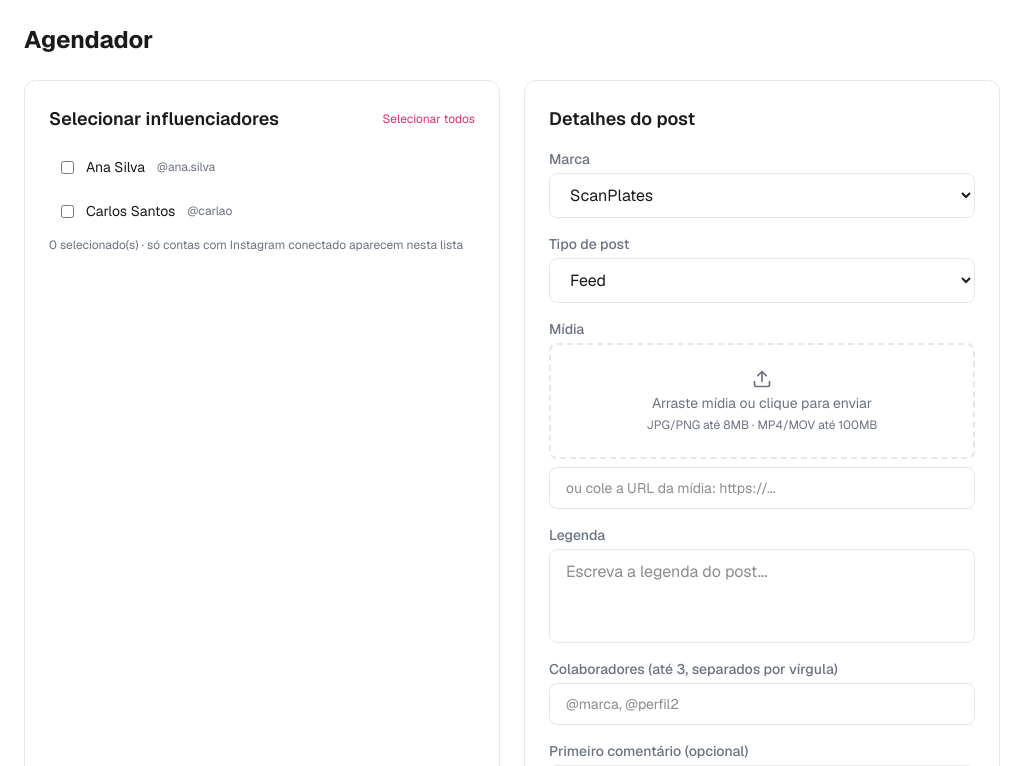
Test case: AdminScheduler › shows the Reel cover field only for reels
The image size is (1024, 766).
Check: the text "capa do reel" is not shown
Select "Reel" in the dropdown below "Tipo de post" at {"x": 762, "y": 280}, box [549,258,975,303]
(page scrolled)
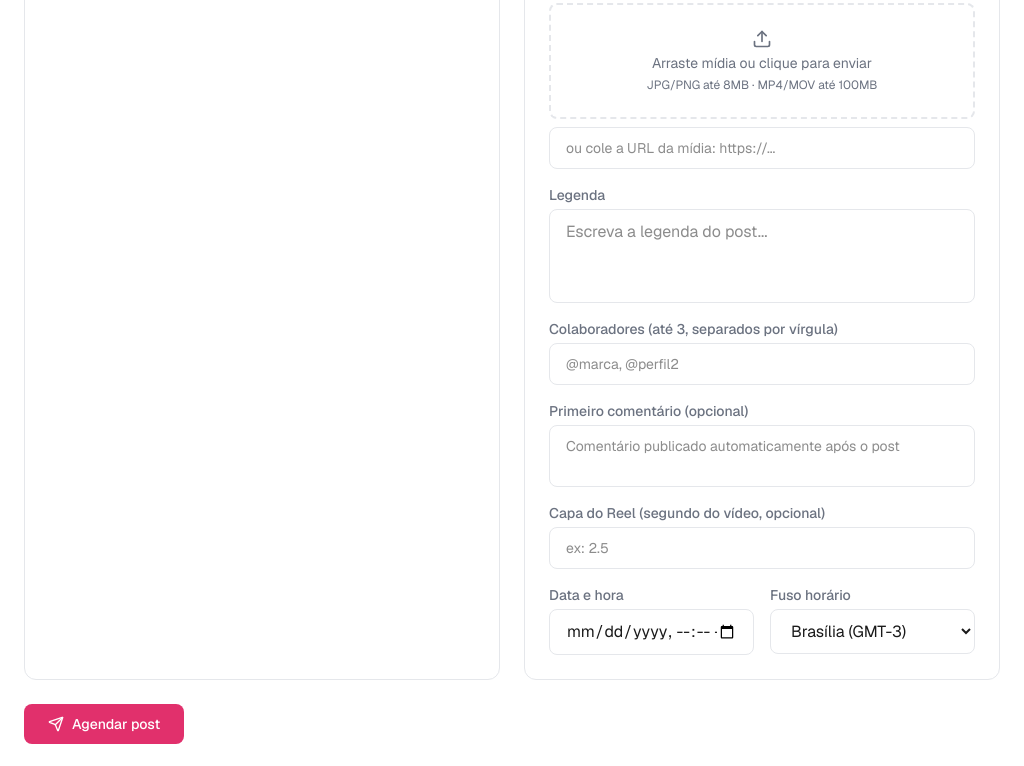
Check: the text "Capa do Reel (segundo do vídeo, opcional)" is shown, box [549,504,825,522]
